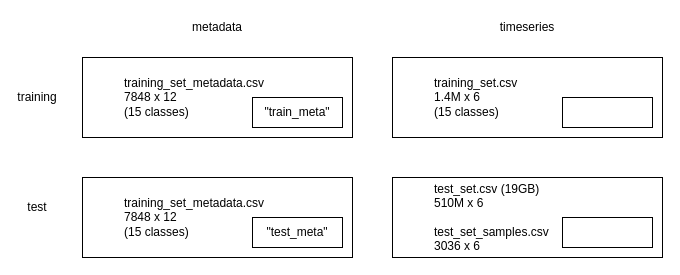
Image size: 680x275. Some labels were removed from this diagram. The centre of each missing label's shape, as x and y in pixels:
"test": pixel 607 232
"train": pixel 607 112
